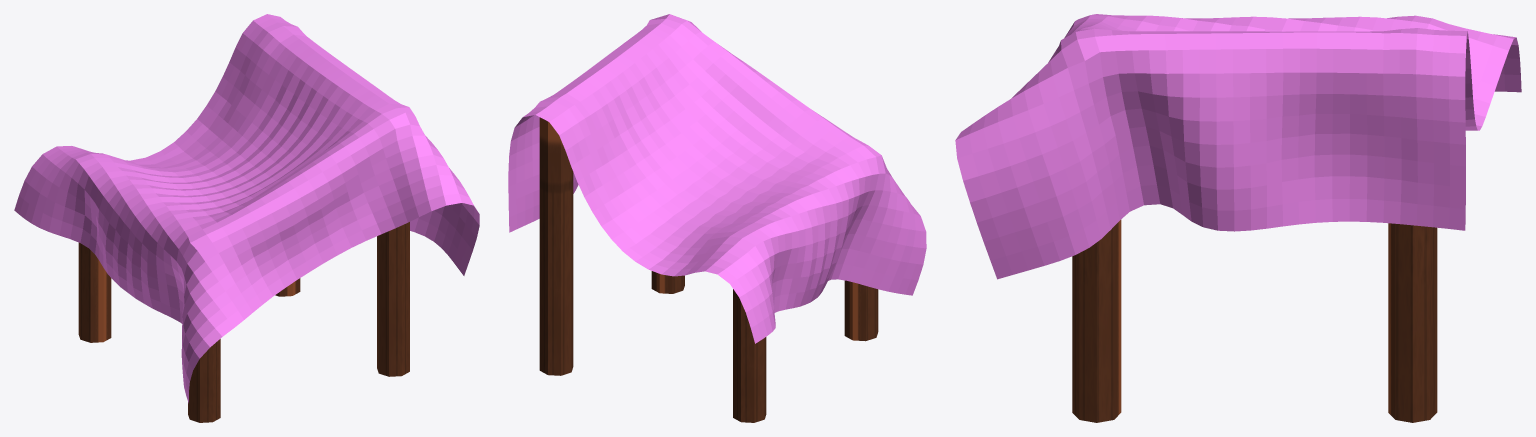
File: cloth_cover.gltf
3 views of the same model, side by side, from view 1: azimuth 30°, elevation 25°; view 2: azimuth 150°, elevation 25°; view 3: azimuth 270°, elevation 25° (orthographic). The views are drawn at different scales.
Visible parts, largest first — view 1: Plane.001, Cylinder.001; view 2: Plane.001, Cylinder.001; view 3: Plane.001, Cylinder.001.
Part boxes in pixels (x1,y1,x2,y2): Plane.001: [14, 14, 479, 403]; Cylinder.001: [78, 222, 409, 422]; Plane.001: [508, 14, 926, 343]; Cylinder.001: [539, 117, 878, 422]; Plane.001: [955, 14, 1521, 279]; Cylinder.001: [1072, 219, 1437, 422].
Bounding box in the file's own units: 44.3 × 40.4 × 54.6.
Materials: 2 (1 with a texture image).
